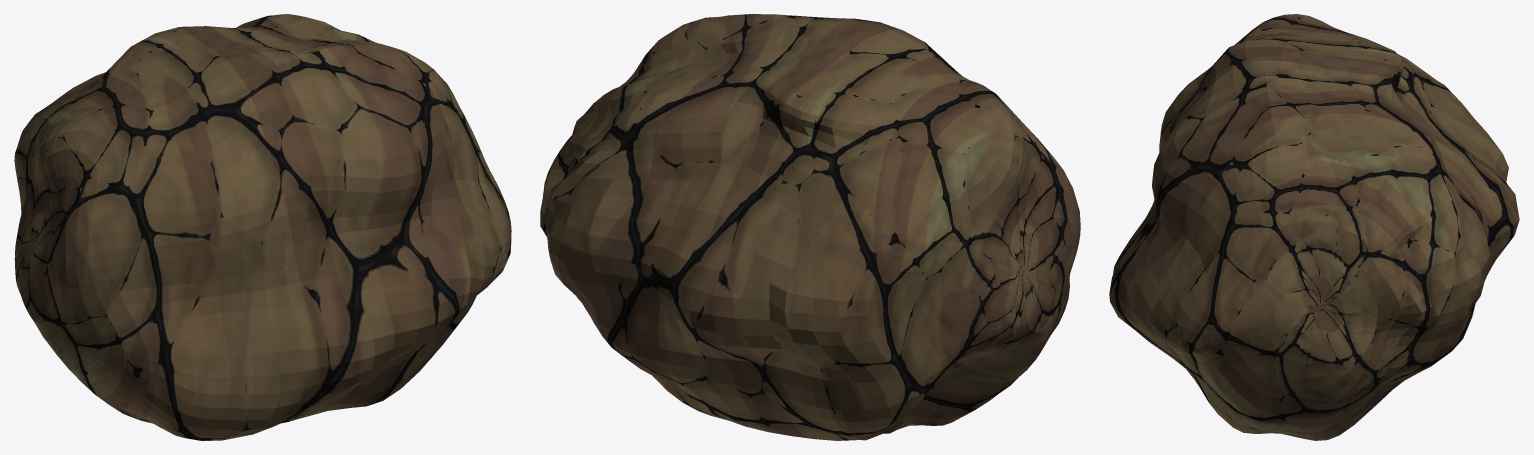
File: AsteroidParticle.FBX
The picture shows the model from 3 angles, left to right: view 1: azimuth 30°, elevation 25°; view 2: azimuth 150°, elevation 25°; view 3: azimuth 270°, elevation 25°; orthographic projection. The views are drawn at different scales.
Visible parts, largest first — view 1: Sphere001; view 2: Sphere001; view 3: Sphere001.
Boxes of the visible parts, x1=… form: Sphere001: x1=14, y1=14, x2=511, y2=440; Sphere001: x1=540, y1=14, x2=1080, y2=440; Sphere001: x1=1109, y1=14, x2=1519, y2=440.
Size of the model in its own units: 16.42 by 12.91 by 14.44.
